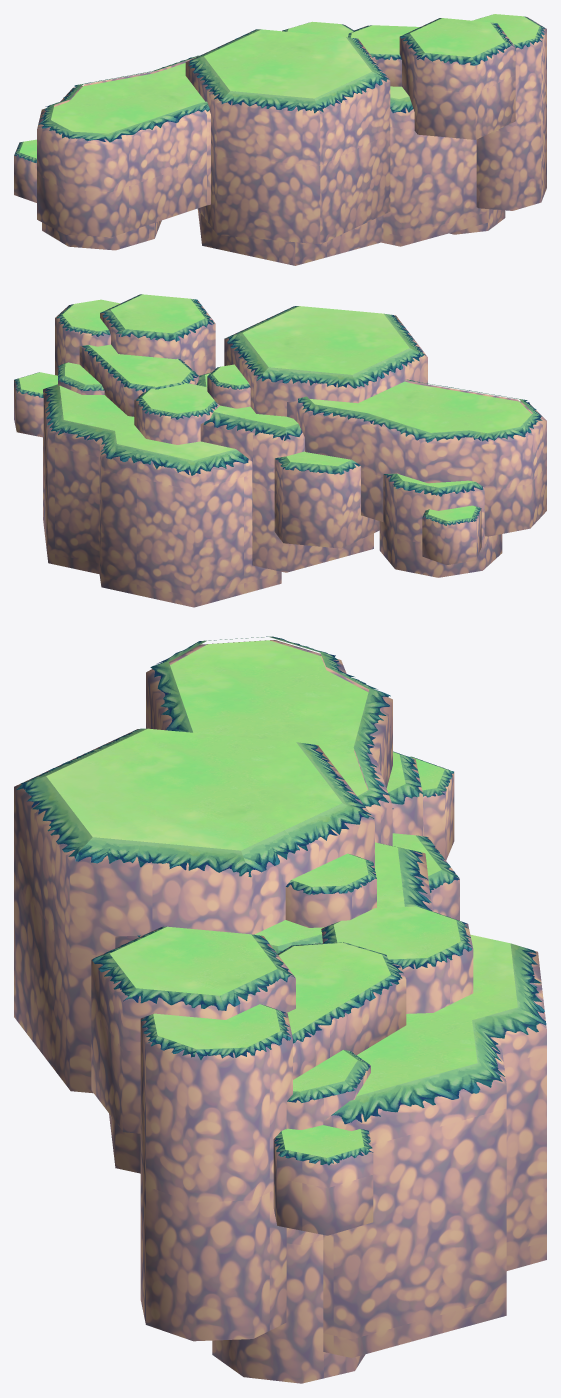
File: Rock_Module2.fbx
3 views of the same model, one above another, from view 1: azimuth 30°, elevation 25°; view 2: azimuth 150°, elevation 25°; view 3: azimuth 270°, elevation 25° (orthographic). The views are drawn at different scales.
Visible parts, largest first — view 1: Module2_Side, Module2_upper, Module2_Edge; view 2: Module2_Side, Module2_upper, Module2_Edge; view 3: Module2_Side, Module2_upper, Module2_Edge.
Part boxes in pixels (box(x1,y1,x2,y2)): Module2_Side: box(14, 17, 546, 265); Module2_upper: box(19, 14, 539, 158); Module2_Edge: box(14, 16, 544, 162); Module2_Side: box(14, 294, 546, 607); Module2_upper: box(19, 294, 531, 521); Module2_Edge: box(14, 294, 542, 525); Module2_Side: box(14, 640, 546, 1383); Module2_upper: box(46, 640, 517, 1157); Module2_Edge: box(16, 636, 546, 1165).
Size of the model in its own units: 5362 by 2244 by 2787.
Materials: 3 (3 with a texture image).
